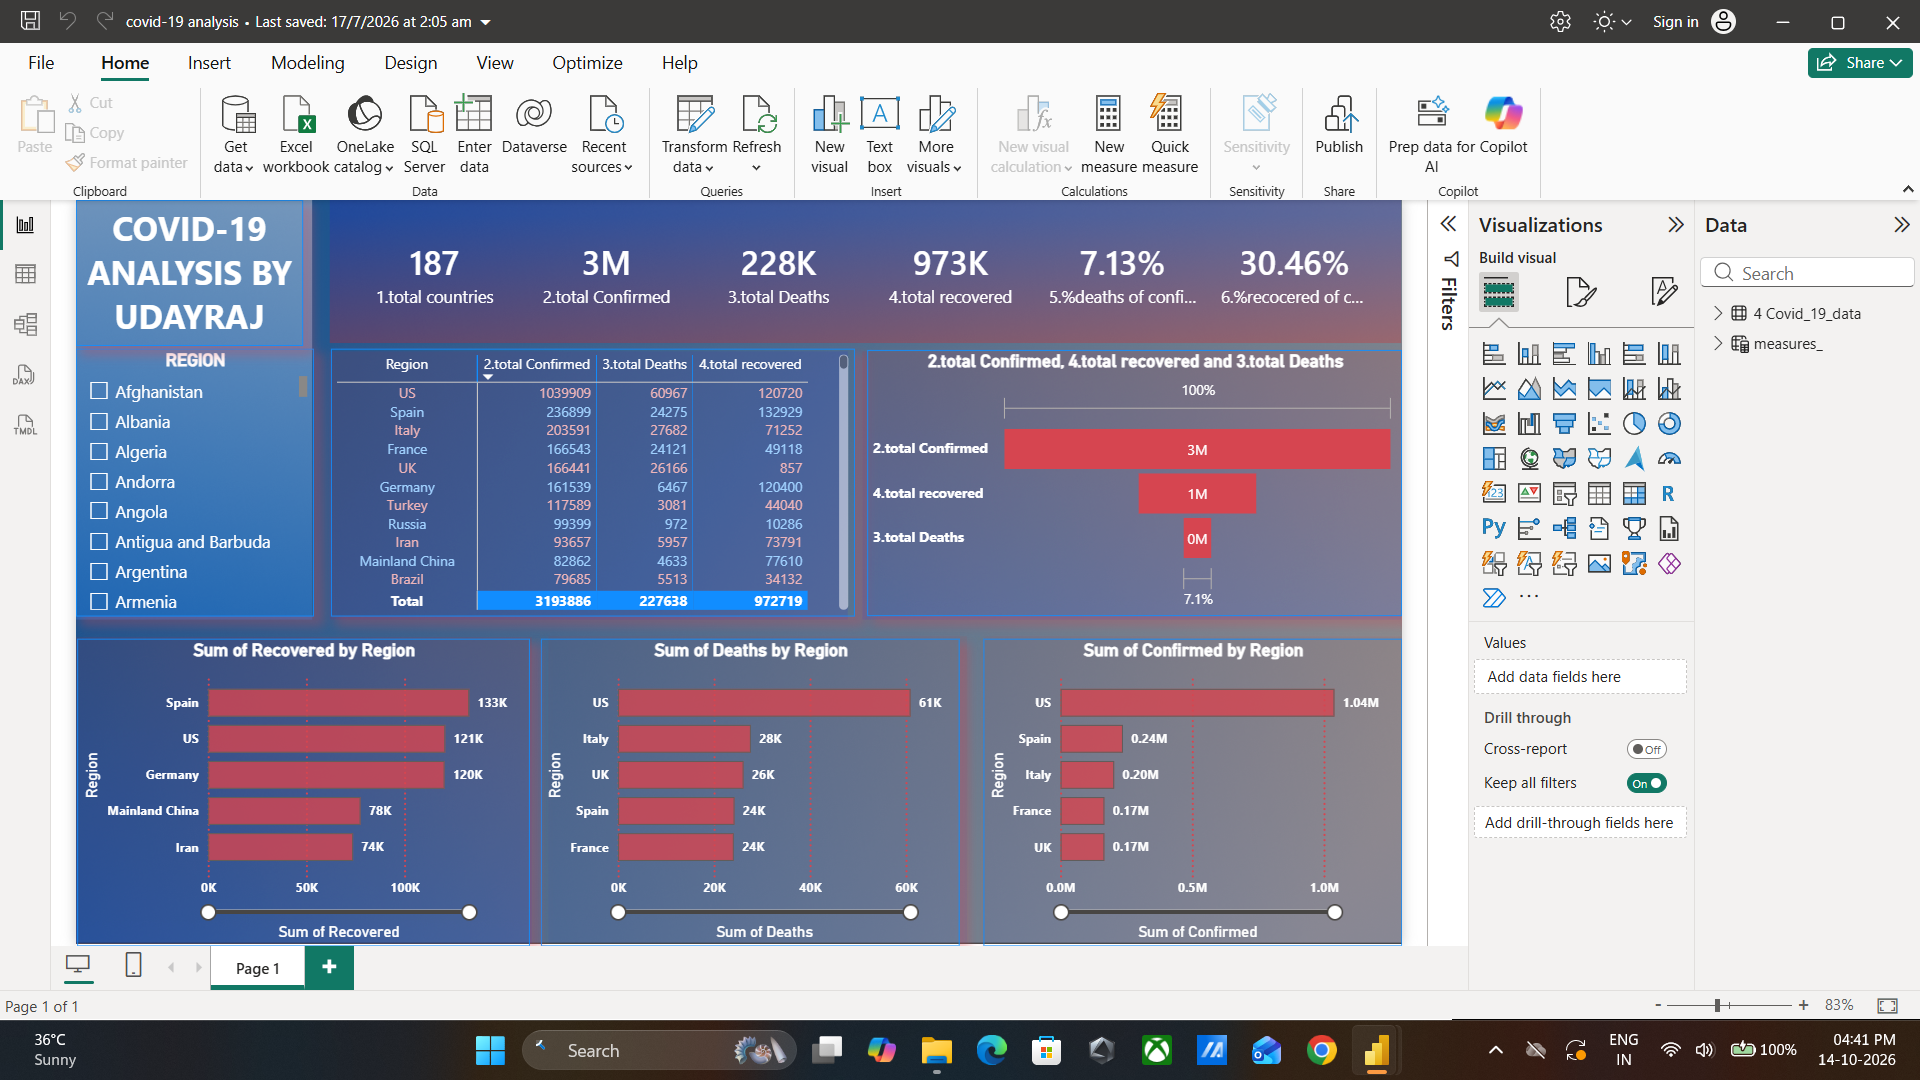

This screenshot's page, from the dashboard's own definition file:
{"tool":"powerbi","page":{"name":"Page 1","canvas":[1280,720],"ordinal":0},"visuals":[{"type":"cardVisual","fields":{"Data":["measures_.1.total countries","measures_.2.total Confirmed","measures_.3.total Deaths","measures_.4.total recovered","measures_.5.%deaths of confirmed","measures_.6.%recocered of conformed"]},"box":[246.1,0,1033.9,141.2],"z":0},{"type":"slicer","title":"REGION","fields":{"Values":["4  Covid_19_data.Region"]},"box":[0,143.6,229.2,258.2],"z":1000},{"type":"barChart","fields":{"Category":["4  Covid_19_data.Region"],"Y":["Sum(4  Covid_19_data.Deaths)"]},"box":[448.8,423.5,404.2,296.8],"z":2000},{"type":"barChart","fields":{"Category":["4  Covid_19_data.Region"],"Y":["Sum(4  Covid_19_data.Recovered)"]},"box":[1.2,423.5,436.7,296.8],"z":3000},{"type":"barChart","fields":{"Category":["4  Covid_19_data.Region"],"Y":["Sum(4  Covid_19_data.Confirmed)"]},"box":[875.9,423.5,404.2,296.8],"z":4000},{"type":"pivotTable","fields":{"Values":["measures_.2.total Confirmed","measures_.3.total Deaths","measures_.4.total recovered"],"Rows":["4  Covid_19_data.Region"]},"box":[246.1,143.6,505.5,258.2],"z":5000},{"type":"funnel","fields":{"Y":["measures_.2.total Confirmed","measures_.4.total recovered","measures_.3.total Deaths"]},"box":[763.7,144.8,516.4,257],"z":6000},{"type":"textbox","box":[0,0,219.6,141.2],"z":7000}]}

Visuals, with their boxes on the page's 1280x720 design canvas (x1, y1, x2, y2). These are canvas units, not pixel positions in the 1920x1080 screenshot, which may show the page scaled, cropped or inside an application window:
cardVisual - measures_.1.total countries x measures_.2.total Confirmed: 246 0 1280 141
"REGION" slicer: 0 144 229 402
barChart - 4  Covid_19_data.Region x Sum(4  Covid_19_data.Deaths): 449 424 853 720
barChart - 4  Covid_19_data.Region x Sum(4  Covid_19_data.Recovered): 1 424 438 720
barChart - 4  Covid_19_data.Region x Sum(4  Covid_19_data.Confirmed): 876 424 1280 720
pivotTable - measures_.2.total Confirmed x measures_.3.total Deaths: 246 144 752 402
funnel - measures_.2.total Confirmed x measures_.4.total recovered: 764 145 1280 402
textbox: 0 0 220 141
